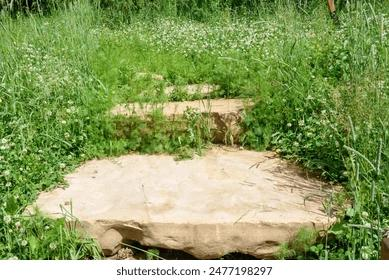overgrown grass: (0, 2, 101, 258), (95, 6, 370, 94), (268, 104, 388, 181), (333, 119, 388, 258), (343, 2, 388, 123)
